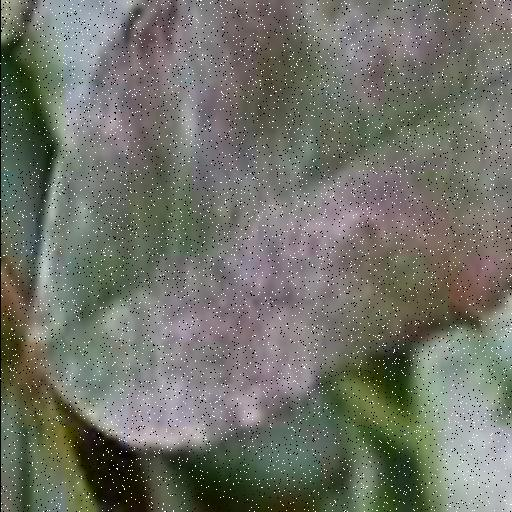powdery_mildew: (26, 0, 512, 448)
